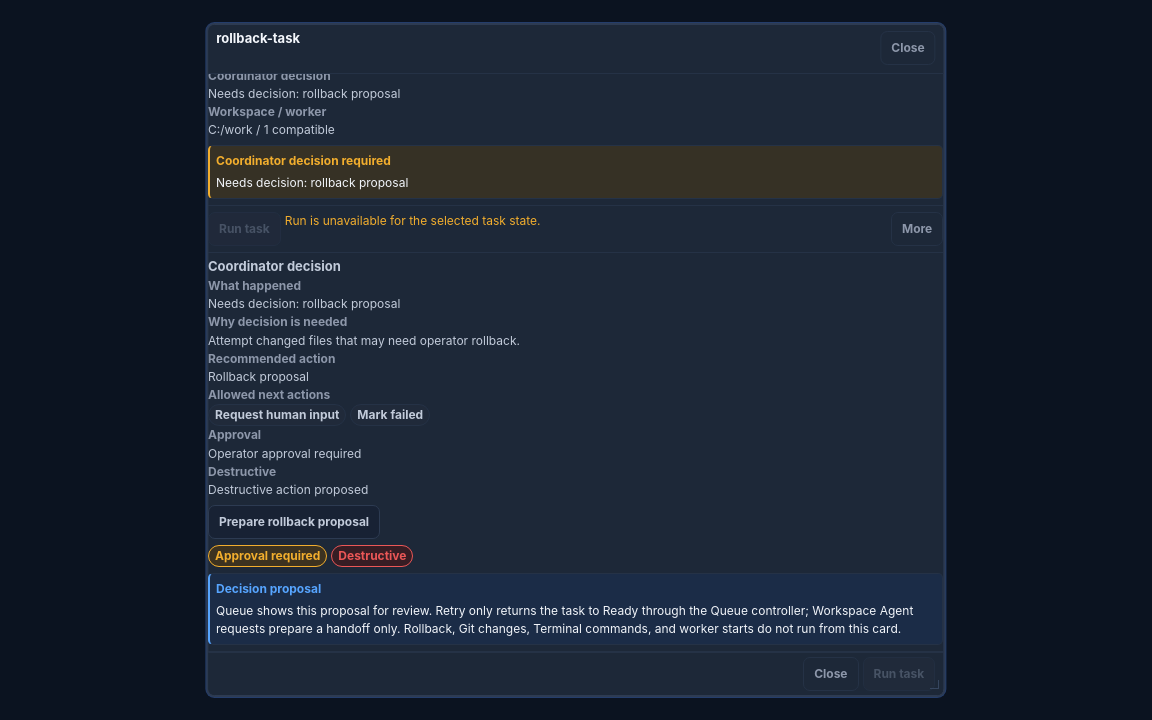
Test: QueueV2TaskDetailsPopup › renders real rollback proposal action only when rollback proposal is allowed
(page scrolled)
Expected: the element named "Coordinator Decision card" shows "Needs decision: rollback proposal", [208,296,401,311]
Expected: the element named "Coordinator Decision card" shows "rollback proposal", [208,369,309,384]
Click the button "Prepare rollback proposal". click: point(294, 522)
box: [208,505,380,539]
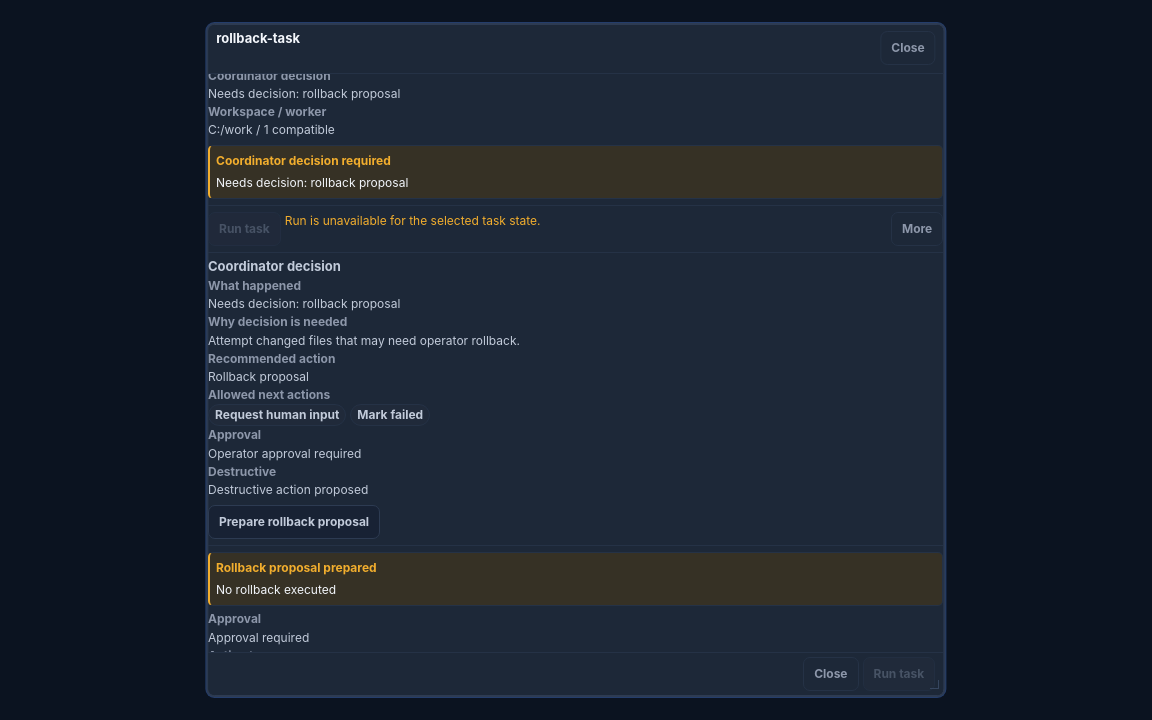
Expected: the text "approval required" is shown, [208,446,362,461]
Expected: the text "Rollback proposal prepared" is shown, [216,560,377,575]
Expected: the text "No rollback executed" is shown, [216,582,336,597]
